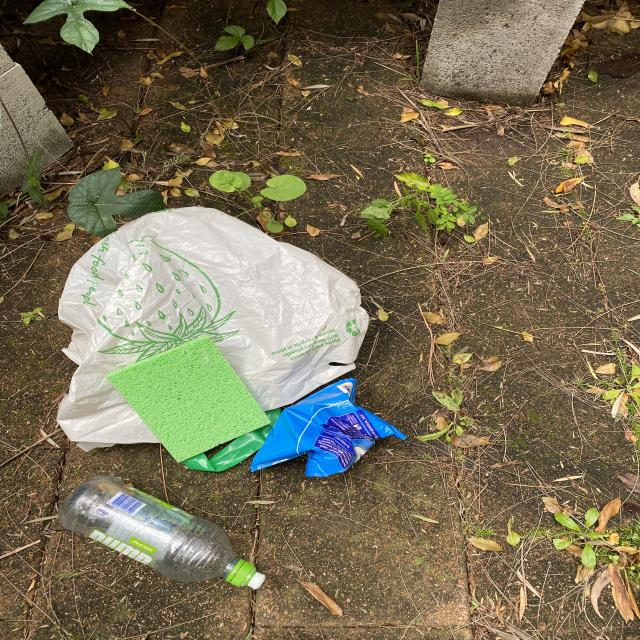bag: (55, 206, 362, 472), (250, 378, 408, 477)
bottle: (58, 475, 266, 590)
sponge: (108, 335, 270, 463)
